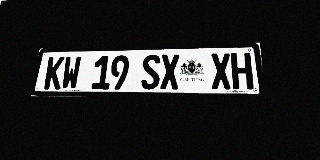1: (91, 56, 112, 89)
9: (110, 55, 130, 89)
H: (231, 53, 254, 89)
K: (44, 57, 65, 89)
S: (141, 55, 160, 89)
W: (61, 56, 82, 89)
X: (210, 53, 232, 89), (160, 54, 179, 89)
